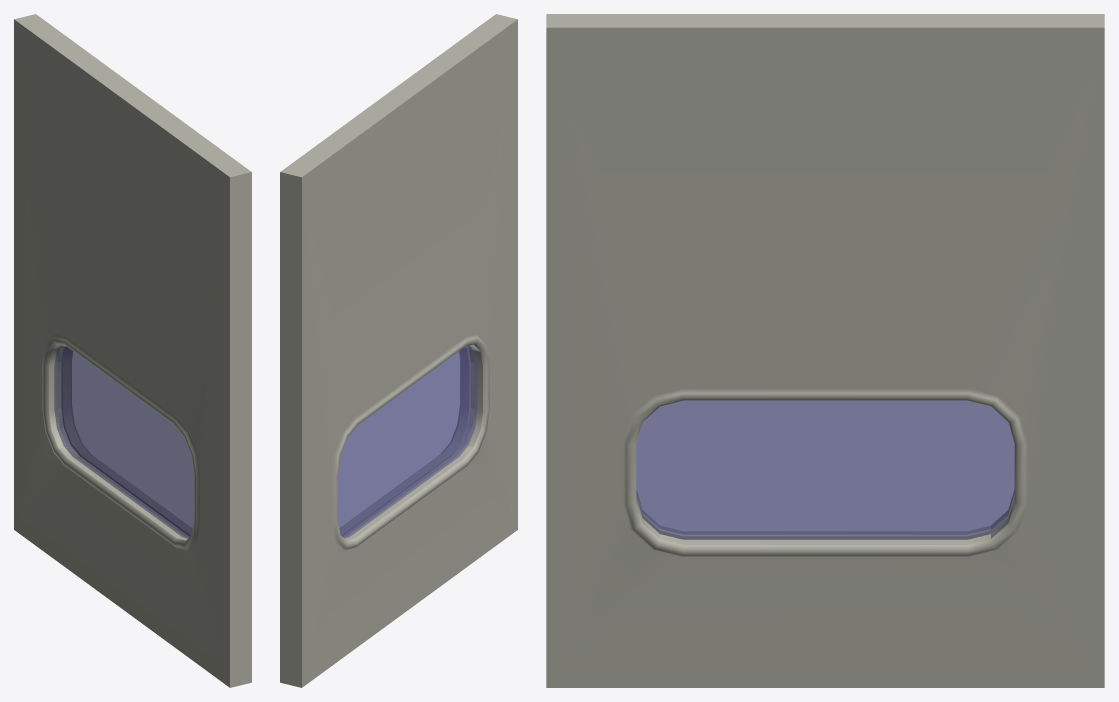
The model's file is wall_window.fbx.
3 renders of one model, left to right at view 1: azimuth 30°, elevation 25°; view 2: azimuth 150°, elevation 25°; view 3: azimuth 270°, elevation 25°, orthographic. The views are drawn at different scales.
Visible parts, largest first — view 1: wall_window; view 2: wall_window; view 3: wall_window.
Boxes of the visible parts, x1,y1,x2,y2 form: wall_window: (14, 14, 251, 687); wall_window: (280, 14, 517, 687); wall_window: (546, 14, 1104, 687).
Size of the model in its own units: 0.3326 by 6 by 4.6.
